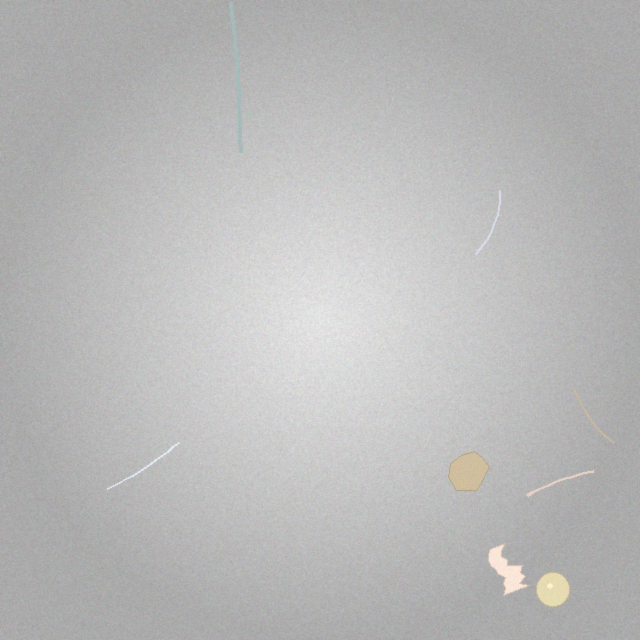fiber: (105, 441, 180, 492), (226, 0, 245, 157), (571, 385, 616, 445), (524, 467, 598, 499), (473, 188, 502, 257)
film: (489, 543, 530, 595)
fragment: (449, 451, 490, 491)
pellet: (536, 572, 570, 606)
